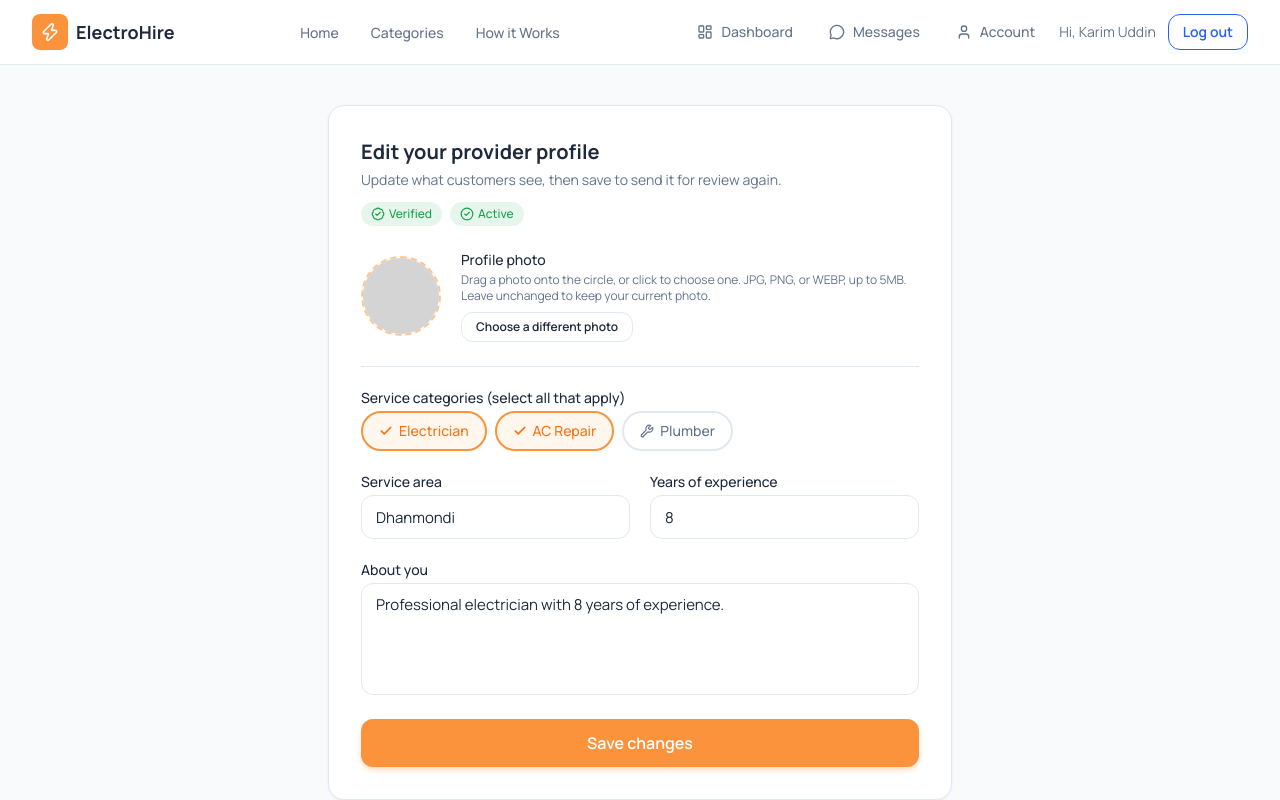
ProviderProfileEditPage › shows the "sent for review again" success screen after a successful save
The width and height of the screenshot is (1280, 800).
Check: the field showing "Dhanmondi" is shown, box [361,495,630,539]
Click the button "Save changes": {"x": 640, "y": 743} [361,719,919,767]
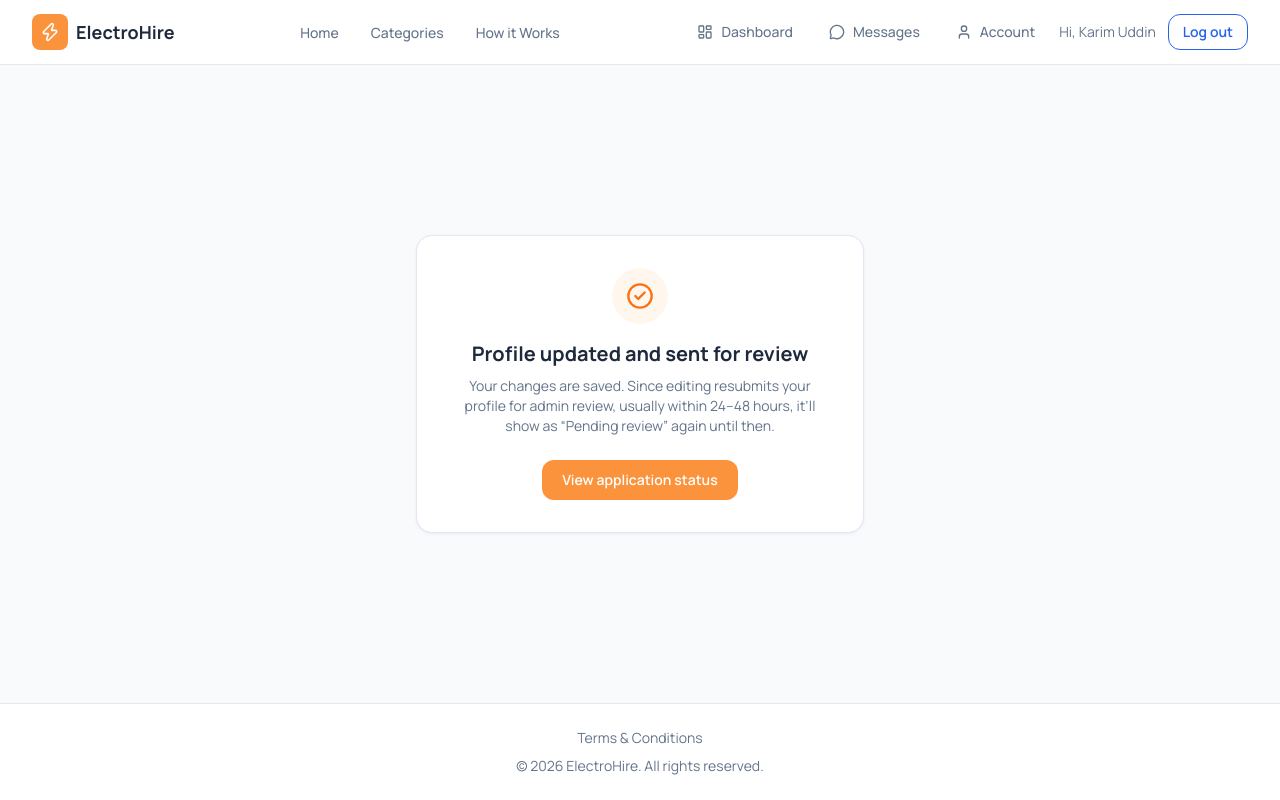
Check: the heading "Profile updated and sent for review" is shown, box [449,340,831,368]
